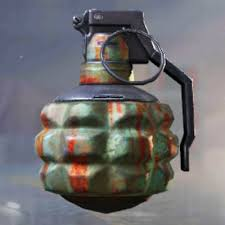bomb: (35, 8, 196, 207)
